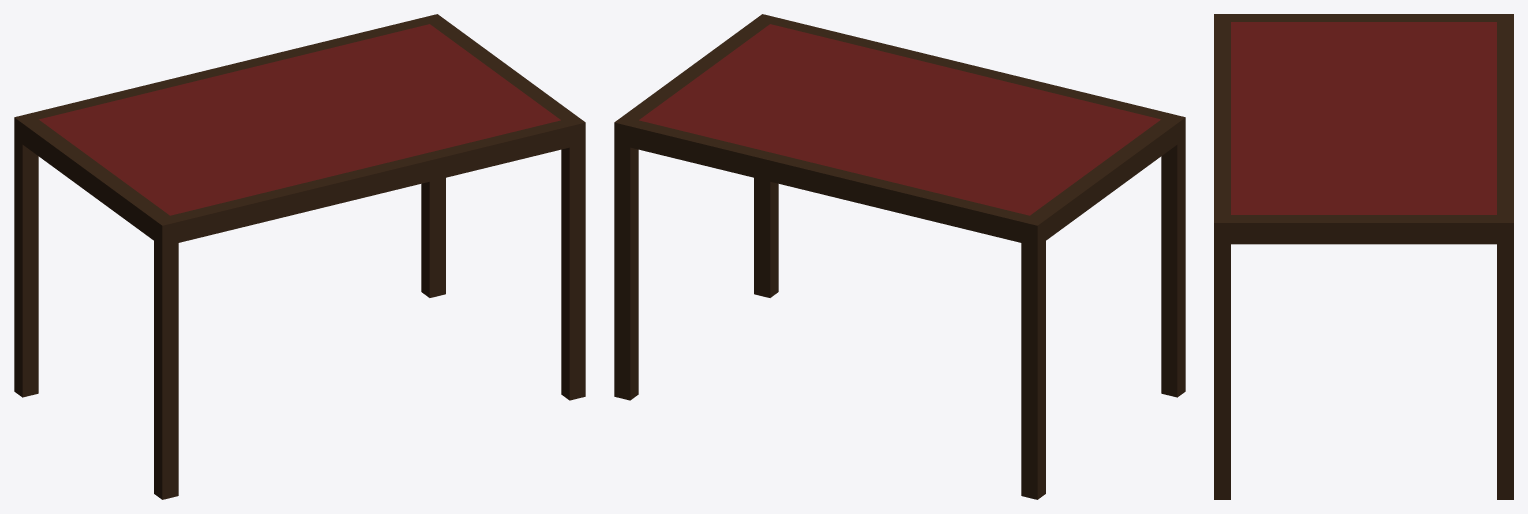
File: Desk.glb
3 renders of one model, left to right at view 1: azimuth 30°, elevation 25°; view 2: azimuth 150°, elevation 25°; view 3: azimuth 270°, elevation 25°, orthographic.
Parts seen in each view (by area): view 1: Cube; view 2: Cube; view 3: Cube.
Boxes of the visible parts, x1=… form: Cube: x1=14, y1=14, x2=585, y2=499; Cube: x1=614, y1=14, x2=1185, y2=499; Cube: x1=1214, y1=14, x2=1513, y2=499.
Size of the model in its own units: 4.23 by 2.62 by 2.56.
